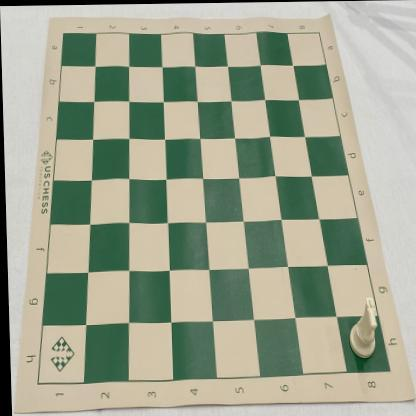white-knight: (346, 297, 377, 359)
